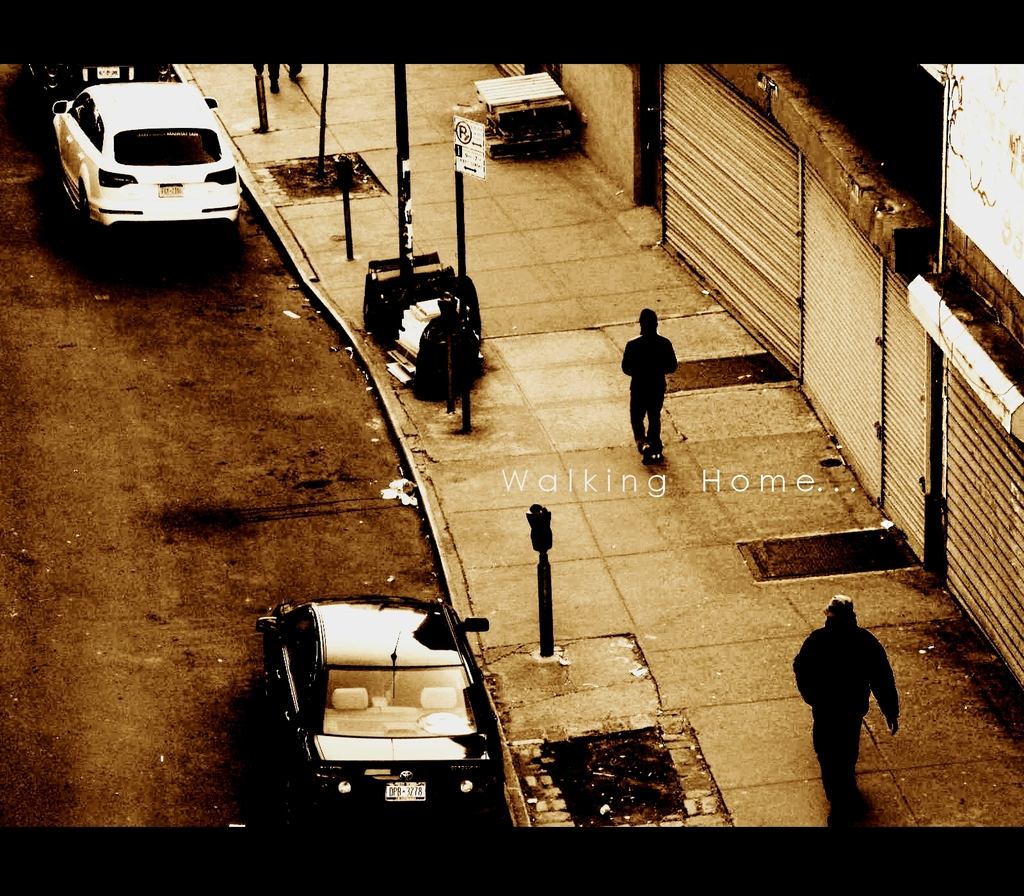mobil: (248, 591, 507, 821), (42, 77, 253, 242)
